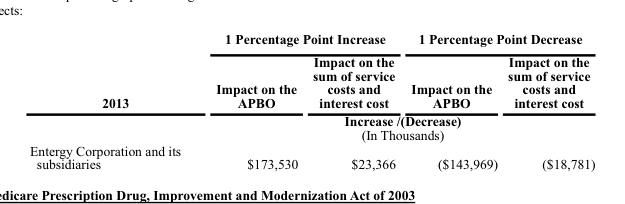table: (29, 28, 594, 172)
table column: (29, 28, 197, 172), (197, 28, 304, 172), (402, 28, 502, 172), (304, 28, 402, 172), (502, 28, 594, 172)
table column header: (29, 28, 594, 141)
table row: (29, 49, 594, 111), (29, 141, 594, 172), (29, 111, 594, 141), (29, 28, 594, 49)
table spanning cell: (29, 28, 197, 141), (197, 111, 594, 141), (197, 28, 402, 49), (402, 28, 594, 49)
